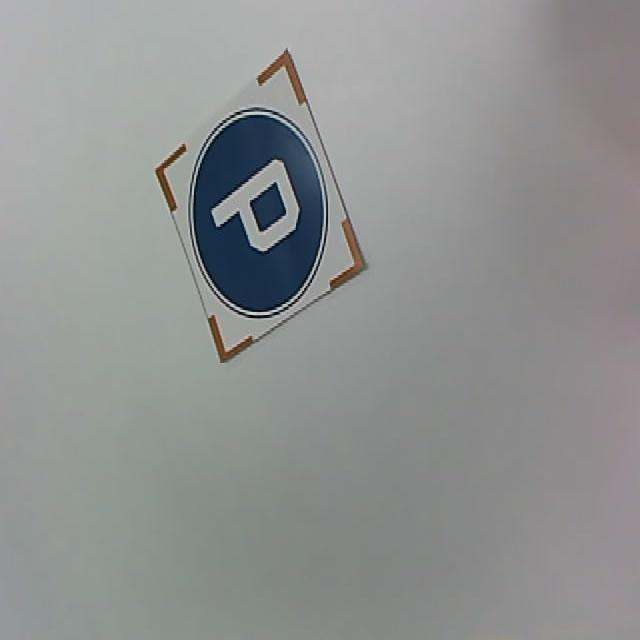parking: (192, 107, 330, 320)
